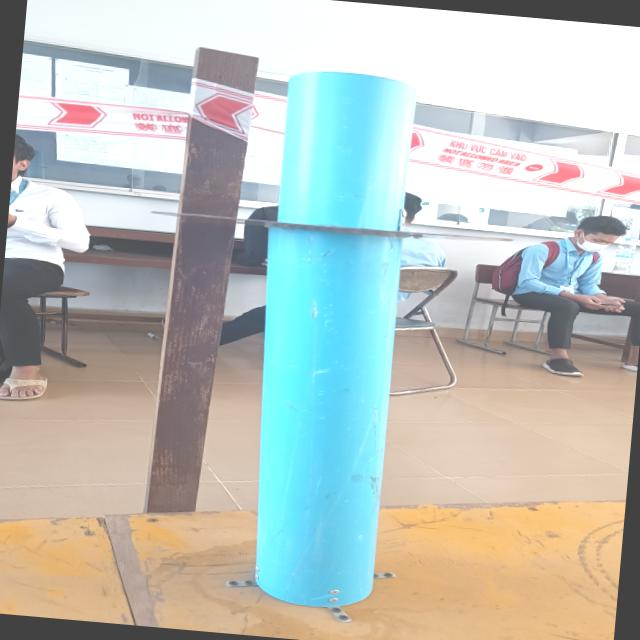pole: (119, 51, 552, 402)
